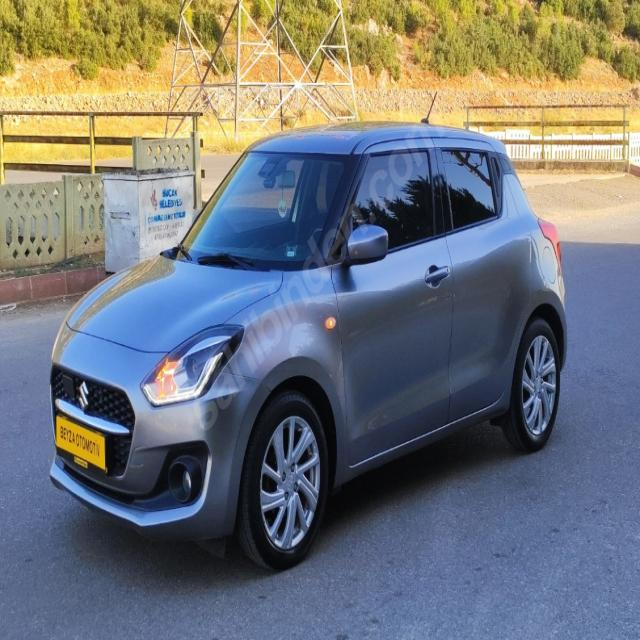suzuki: (77, 378, 90, 413)
